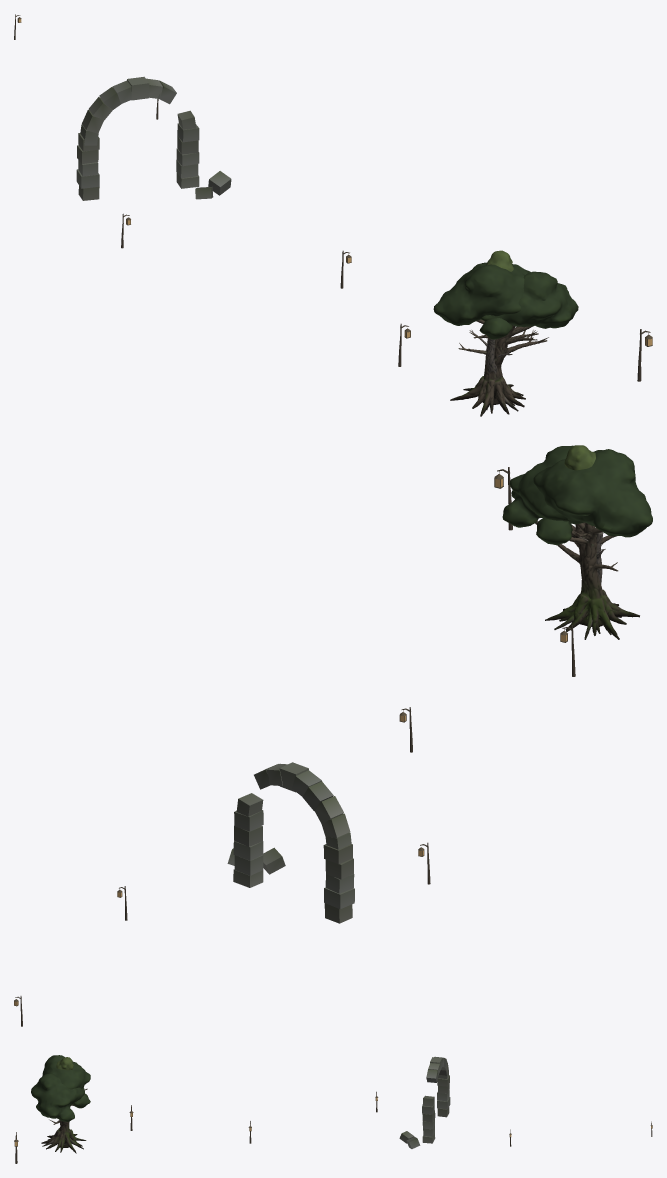
The model's file is proxies.glb.
The picture shows the model from 3 angles, top to bottom: view 1: azimuth 30°, elevation 25°; view 2: azimuth 150°, elevation 25°; view 3: azimuth 270°, elevation 25°; orthographic projection. The views are drawn at different scales.
Parts seen in each view (by area): view 1: static-gate, oak_edge_a, oak_edge_b; view 2: oak_edge_a, static-gate, oak_edge_b; view 3: oak_edge_b, static-gate, oak_edge_a, birch_edge_a.
Boxes of the visible parts, x1,y1,x2,y2 form: static-gate: [76, 76, 231, 200]; oak_edge_a: [433, 262, 538, 413]; oak_edge_b: [450, 271, 578, 416]; oak_edge_a: [533, 449, 652, 633]; static-gate: [227, 762, 354, 923]; oak_edge_b: [502, 445, 639, 639]; oak_edge_b: [31, 1073, 84, 1153]; static-gate: [399, 1056, 450, 1148]; oak_edge_a: [39, 1055, 90, 1151]; birch_edge_a: [56, 1057, 73, 1070].
Size of what is drawn, in the model's own units: 22.85 by 13.71 by 85.99.
